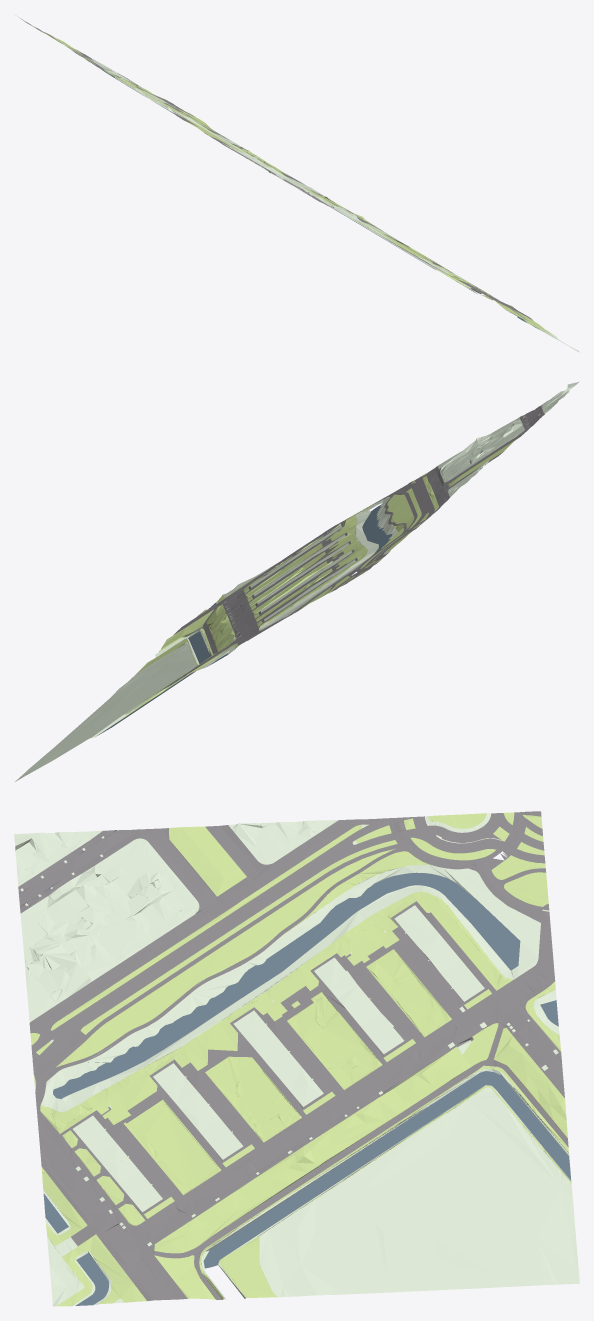
3 views of the same model, one above another, from view 1: azimuth 30°, elevation 25°; view 2: azimuth 150°, elevation 25°; view 3: azimuth 270°, elevation 25° (orthographic). The views are drawn at different scales.
Bounding box in the file's own units: 217 × 158 × 267.
